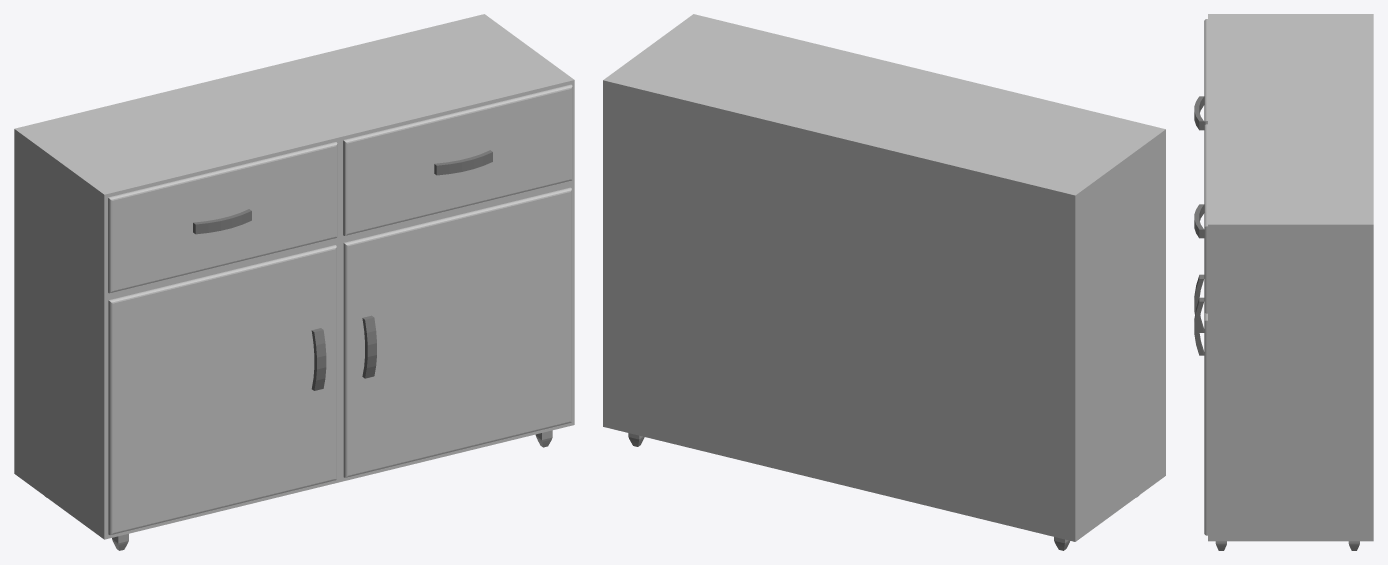
Rendered from Wardrobe_16.fbx.
The picture shows the model from 3 angles, left to right: view 1: azimuth 30°, elevation 25°; view 2: azimuth 150°, elevation 25°; view 3: azimuth 270°, elevation 25°; orthographic projection. The views are drawn at different scales.
Parts seen in each view (by area): view 1: Wardrobe_16, Wardrobe_16 Door_4, Wardrobe_16 Door_3, Wardrobe_16 Door_1, Wardrobe_16 Door_2; view 2: Wardrobe_16; view 3: Wardrobe_16, Wardrobe_16 Door_4, Wardrobe_16 Door_1, Wardrobe_16 Door_2, Wardrobe_16 Door_3.
Boxes of the visible parts, x1,y1,x2,y2 form: Wardrobe_16: (14, 14, 574, 550); Wardrobe_16 Door_4: (343, 187, 571, 477); Wardrobe_16 Door_3: (108, 245, 336, 534); Wardrobe_16 Door_1: (343, 84, 572, 235); Wardrobe_16 Door_2: (108, 142, 337, 293); Wardrobe_16: (603, 14, 1165, 550); Wardrobe_16: (1208, 14, 1373, 550); Wardrobe_16 Door_4: (1194, 297, 1207, 535); Wardrobe_16 Door_1: (1194, 124, 1207, 313); Wardrobe_16 Door_2: (1194, 19, 1207, 130); Wardrobe_16 Door_3: (1194, 274, 1204, 332).
Bounding box in the file's own units: 1.27 × 0.9424 × 0.4562.
